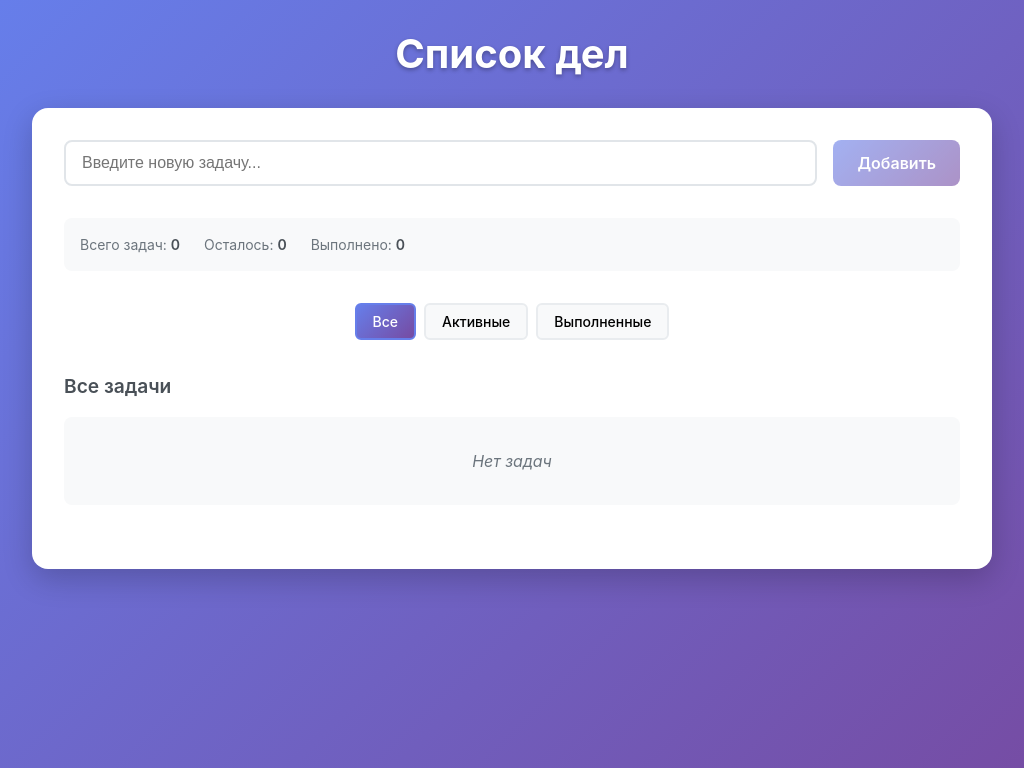
Scenario: App Integration Tests › добавляет новую задачу
Type "Новая тестовая задача" into the field with placeholder "Введите новую задачу...". click: (441, 163)
box: [64,140,818,186]
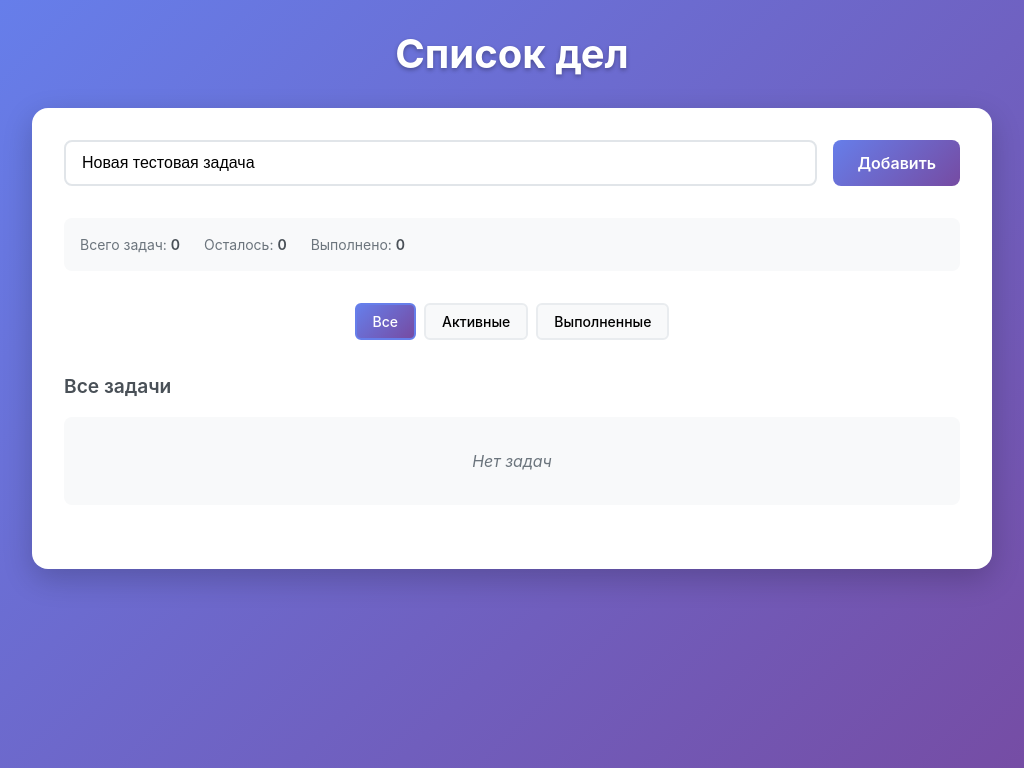
Click the button "Добавить". click: (897, 163)
box: [834,140,960,186]
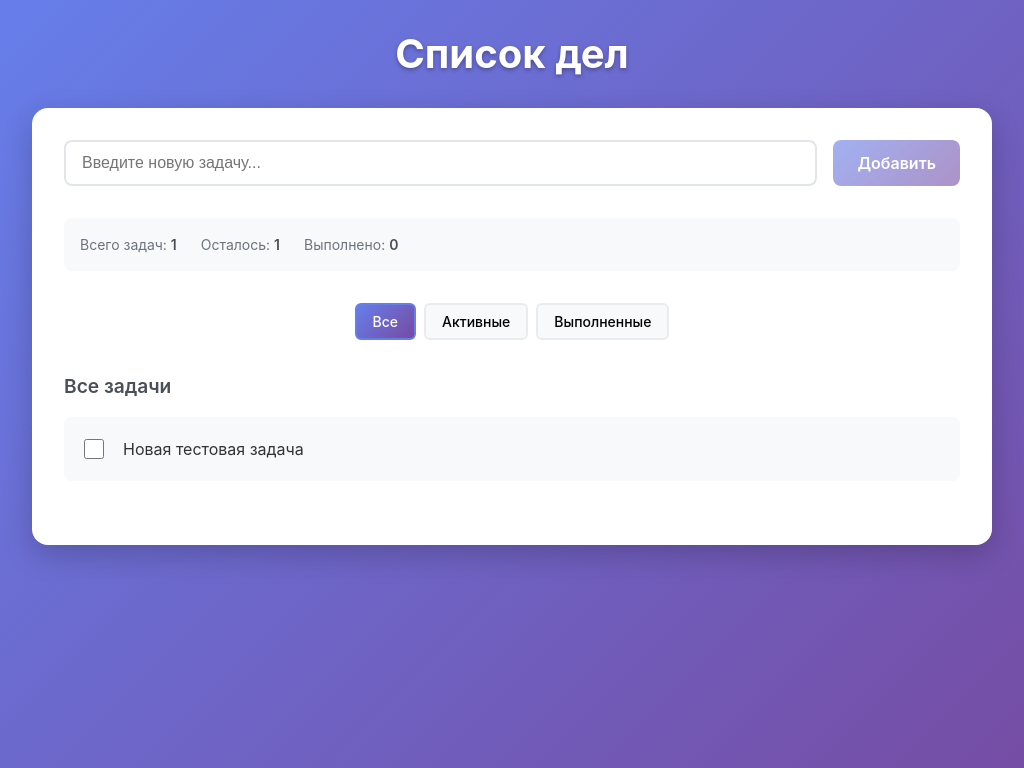
Expected: the text "Всего задач: 1" is shown, [80,234,177,255]
Expected: the text "Новая тестовая задача" is shown, [123,439,304,459]
Expected: the text "1" next to "Всего задач:" is shown, [171,236,177,253]
